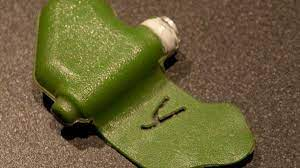butterfly: (33, 1, 262, 168)
